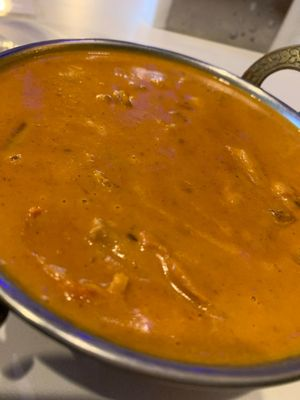sushi: (0, 35, 300, 384)
